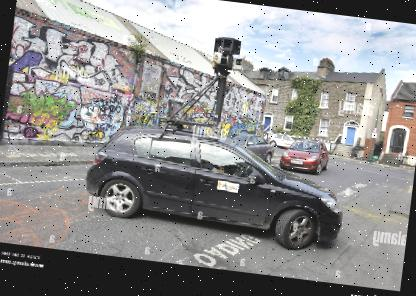car: (77, 117, 353, 257), (278, 133, 334, 181)
